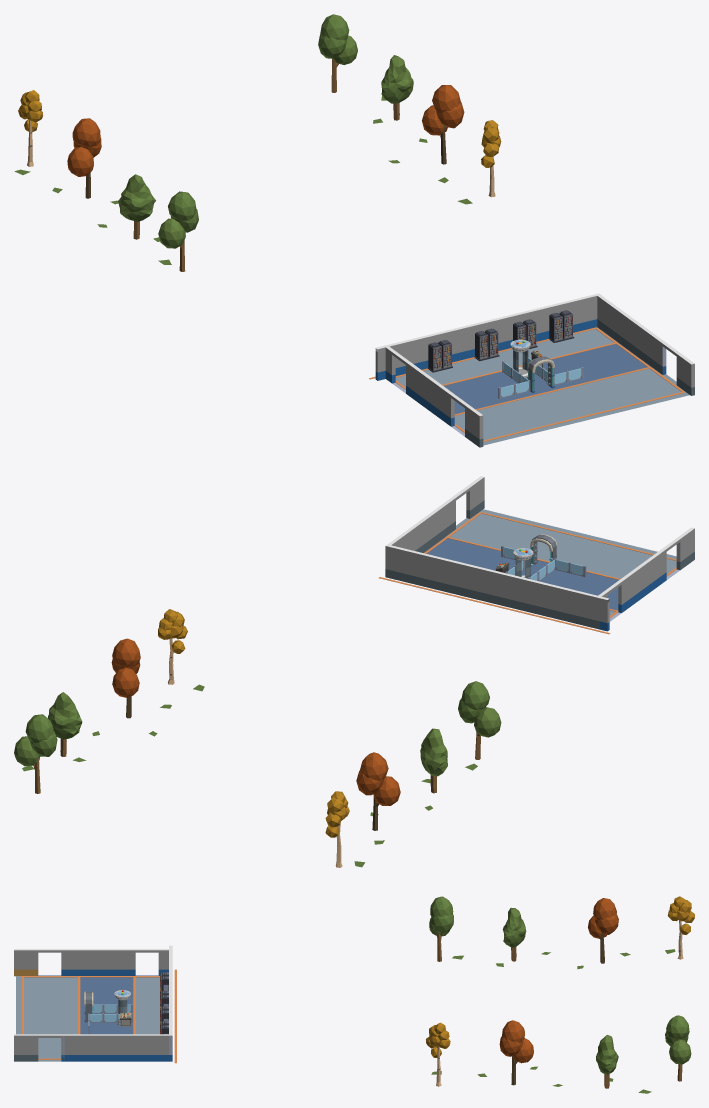
Rendered from background.glb.
3 views of the same model, one above another, from view 1: azimuth 30°, elevation 25°; view 2: azimuth 150°, elevation 25°; view 3: azimuth 270°, elevation 25° (orthographic). The views are drawn at different scales.
Visible parts, largest first — view 1: outer_walls_floor, reception_single_glass_wall_02.047, reception_cleaner_base_tier_04.002, reception_cleaner_base_tier_04.003, reception_cleaner_base_tier_04; view 2: outer_walls_floor, reception_single_glass_wall_02.047; view 3: outer_walls_floor, reception_single_glass_wall_02.047.
Part boxes in pixels (<box>): outer_walls_floor: <box>14,14,694,447</box>; reception_single_glass_wall_02.047: <box>498,357,583,398</box>; reception_cleaner_base_tier_04.002: <box>548,310,574,342</box>; reception_cleaner_base_tier_04.003: <box>474,328,499,361</box>; reception_cleaner_base_tier_04: <box>427,340,452,372</box>; outer_walls_floor: <box>14,476,694,867</box>; reception_single_glass_wall_02.047: <box>501,545,586,581</box>; outer_walls_floor: <box>14,896,694,1093</box>; reception_single_glass_wall_02.047: <box>88,1004,132,1034</box>.
Bounding box in the file's own units: 124 × 25.82 × 246.
Materials: 1 (1 with a texture image).
